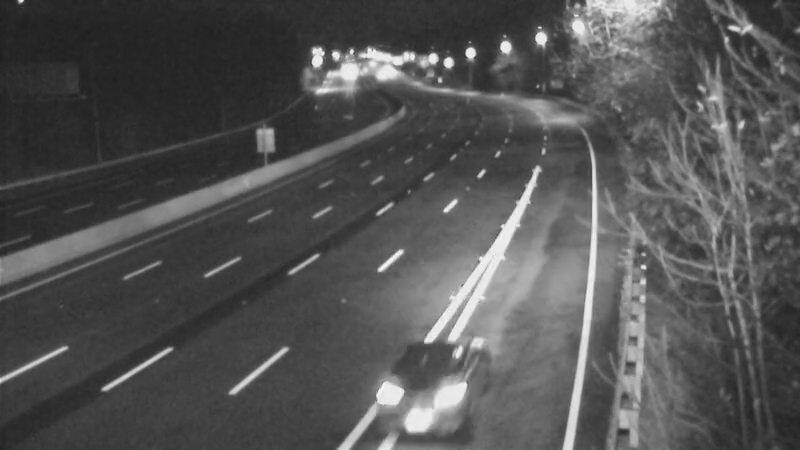vehicle: (370, 341, 480, 450)
